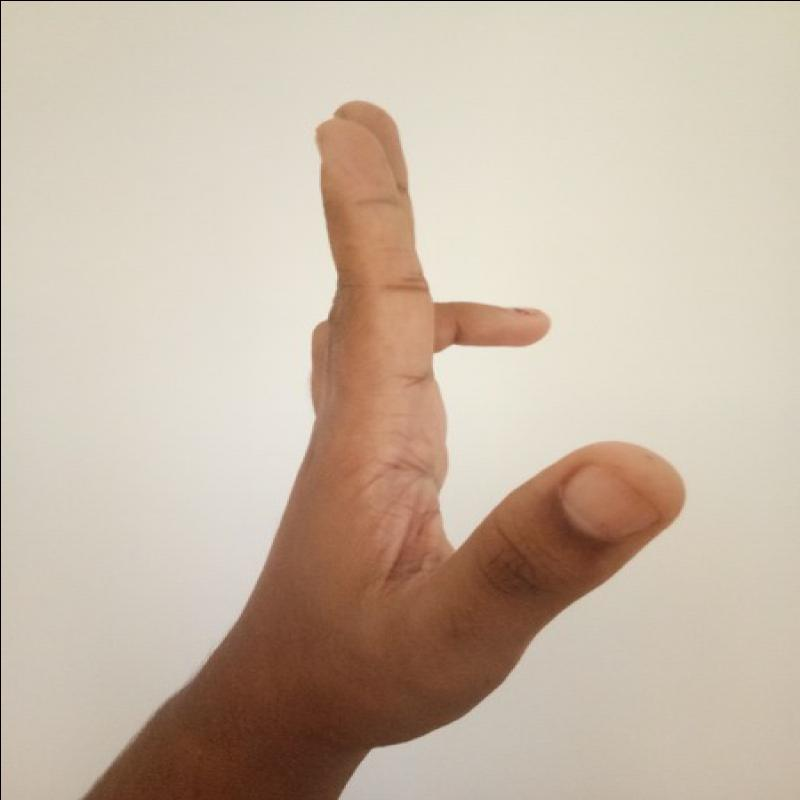Pathaaka: (275, 80, 696, 753)
